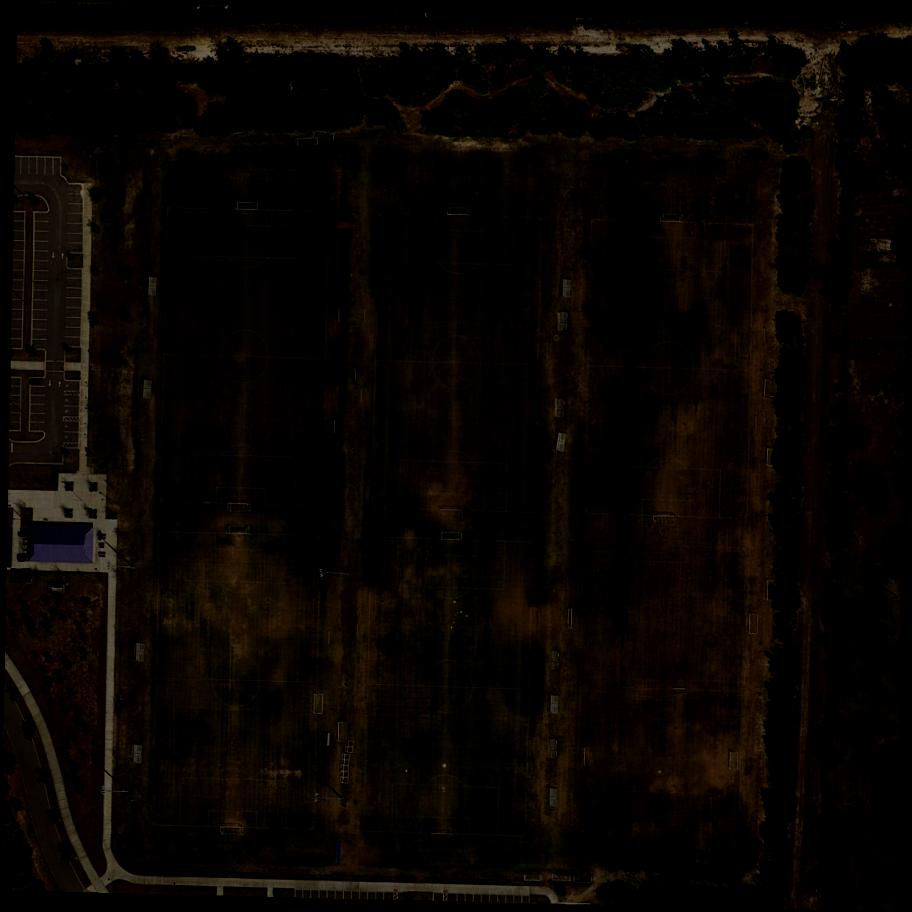small-vehicle: (30, 379, 43, 383)
